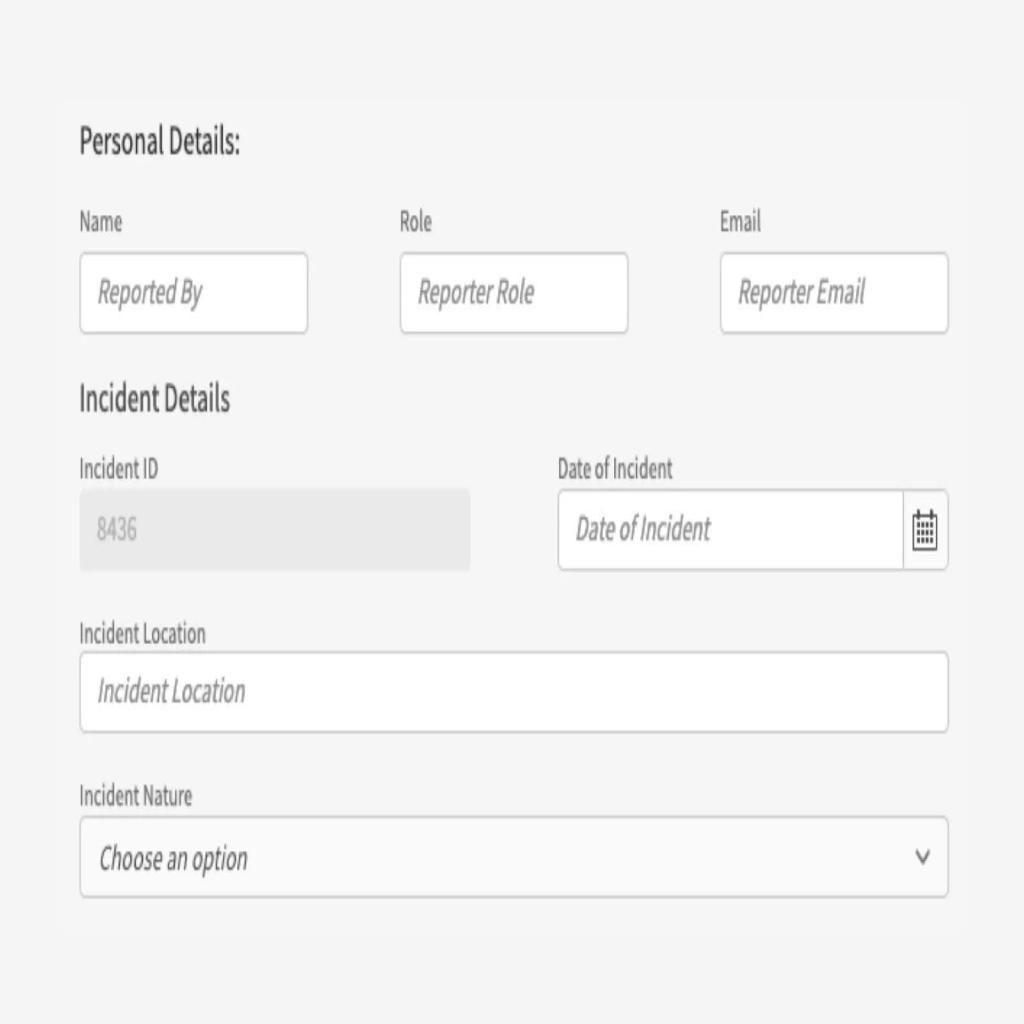button: (909, 495, 947, 568)
dropdown: (80, 817, 948, 895)
input: (80, 656, 950, 738), (81, 490, 470, 574), (558, 495, 906, 568), (400, 249, 629, 338), (721, 254, 948, 334), (81, 254, 307, 334)
label: (73, 117, 244, 170), (77, 615, 208, 645), (77, 778, 196, 809), (552, 454, 674, 481), (77, 446, 163, 478), (718, 204, 767, 239), (79, 202, 125, 239), (399, 205, 434, 241)
